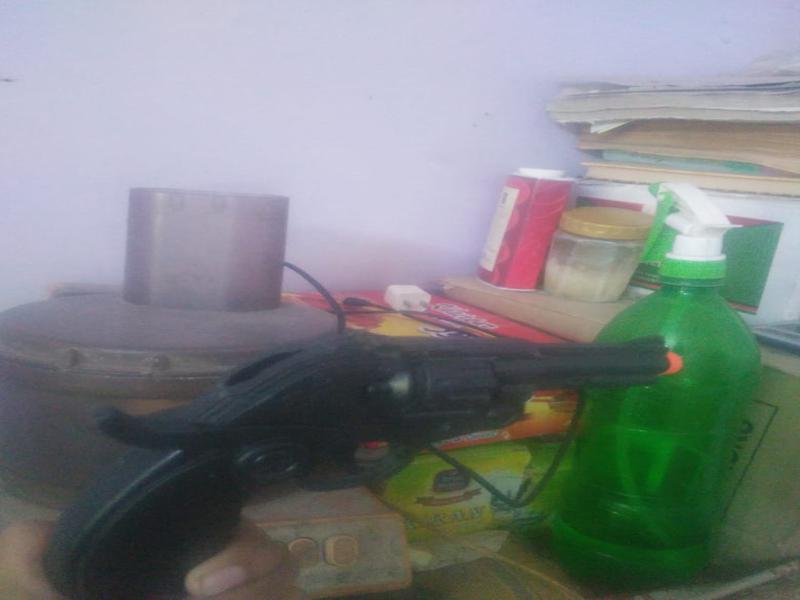gun: (37, 326, 682, 600)
